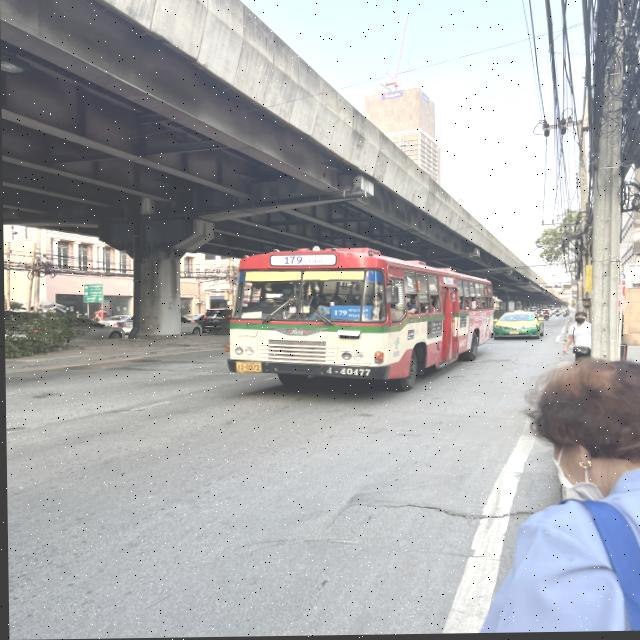BMTA-bus: (224, 247, 494, 393)
Bus-Line-Number: (280, 255, 323, 266)
Destination-Sign-Normal: (330, 306, 372, 322)
